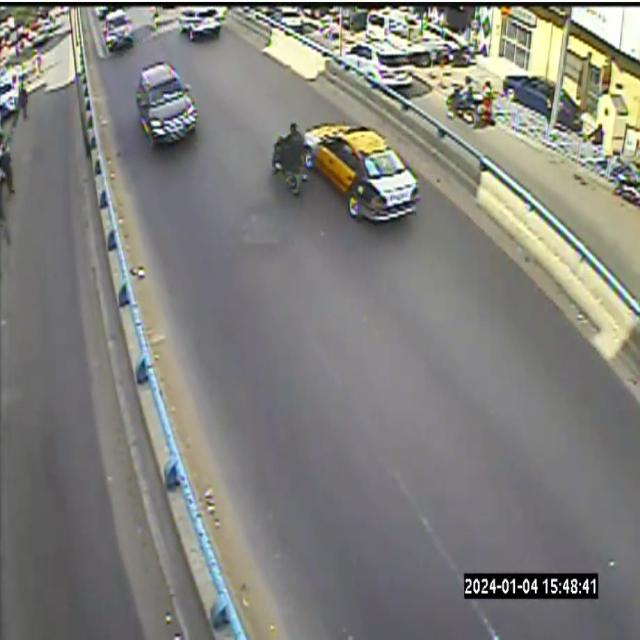car: (302, 122, 420, 221), (136, 62, 197, 142), (343, 43, 412, 89), (179, 6, 224, 40), (103, 9, 132, 51)
